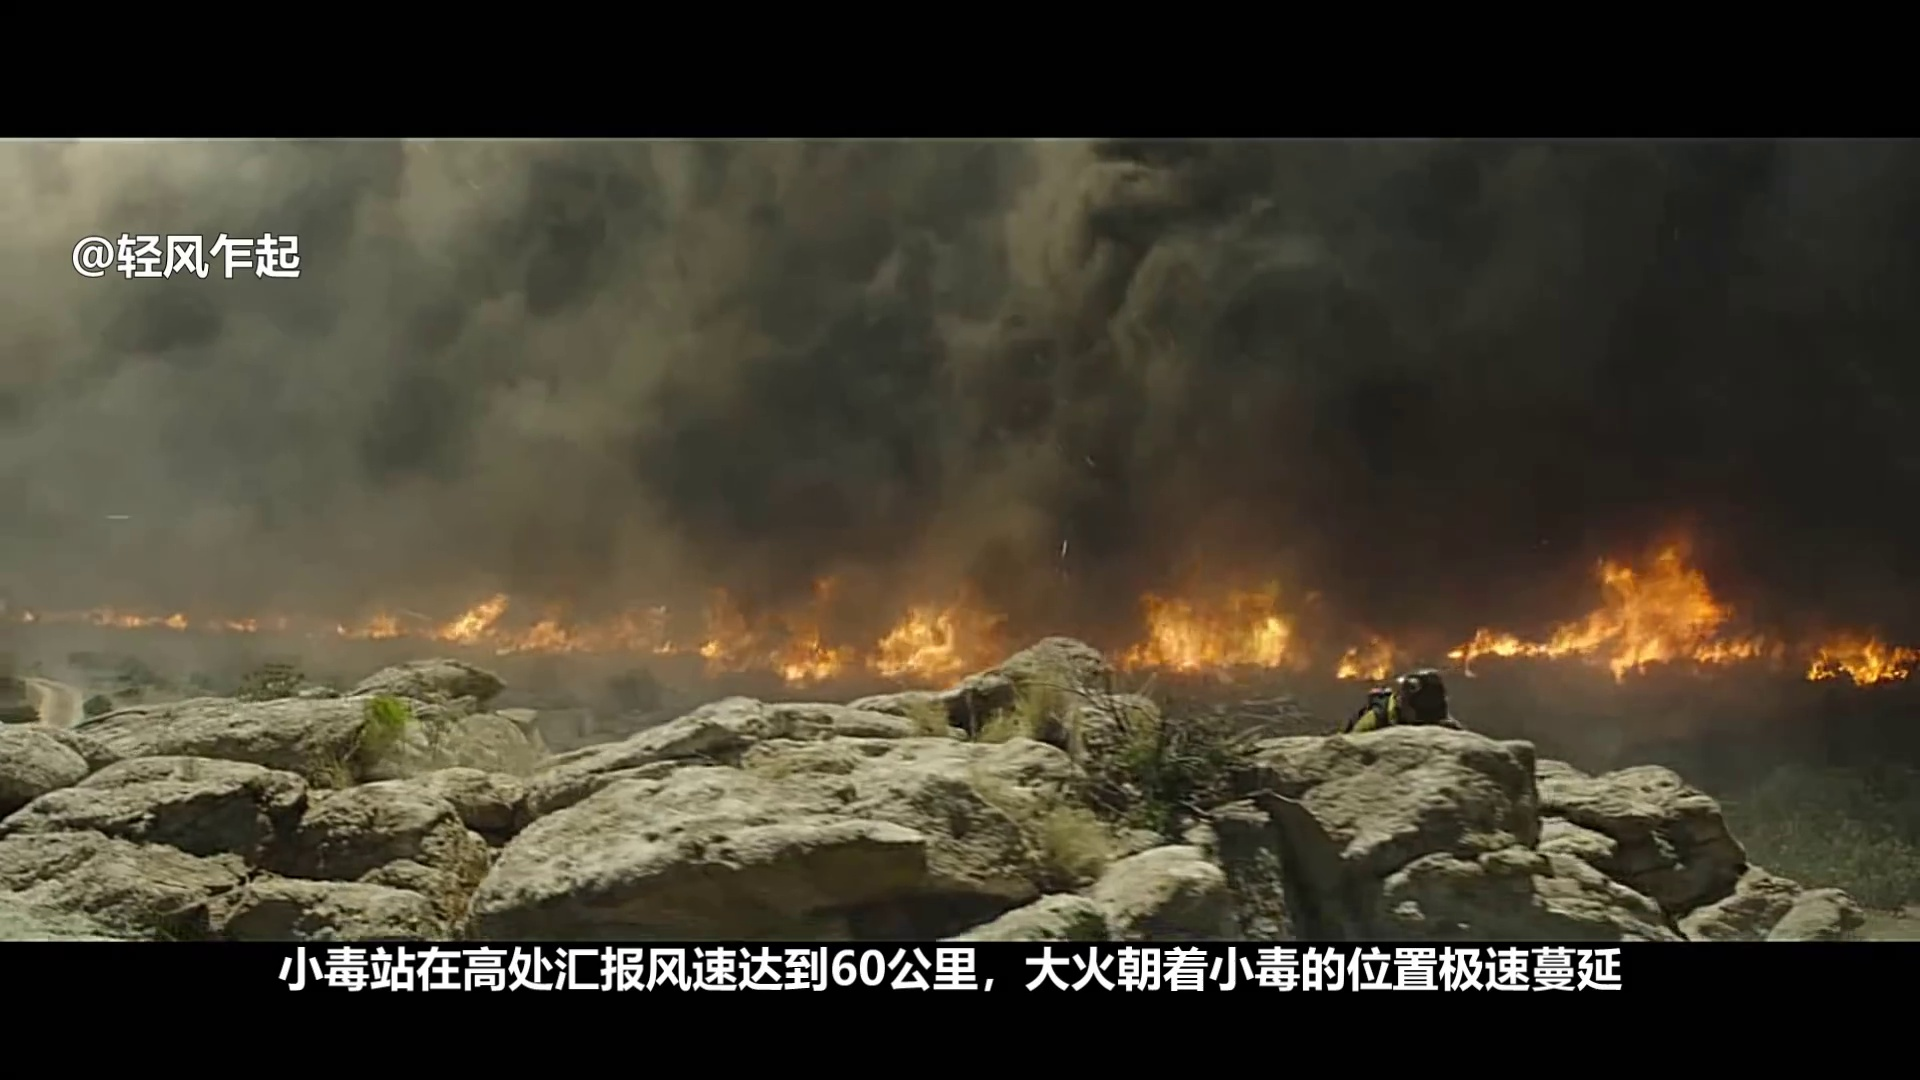fire: (1466, 558, 1720, 670), (1139, 576, 1276, 673), (869, 611, 961, 669), (1341, 636, 1393, 683), (1841, 640, 1909, 673), (452, 607, 495, 641)
